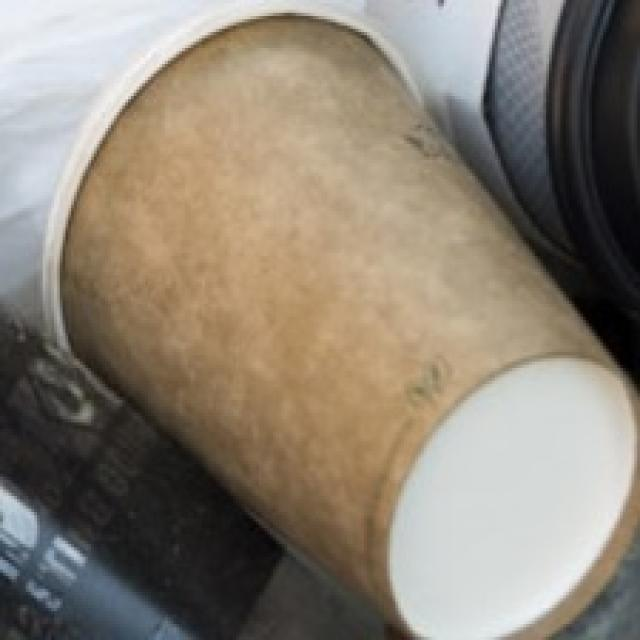paper cup: (23, 0, 640, 627)
